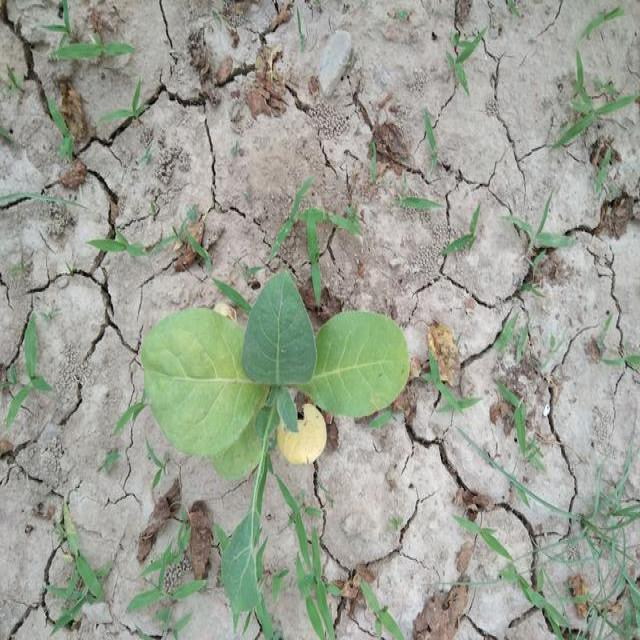crop: (138, 253, 419, 458)
